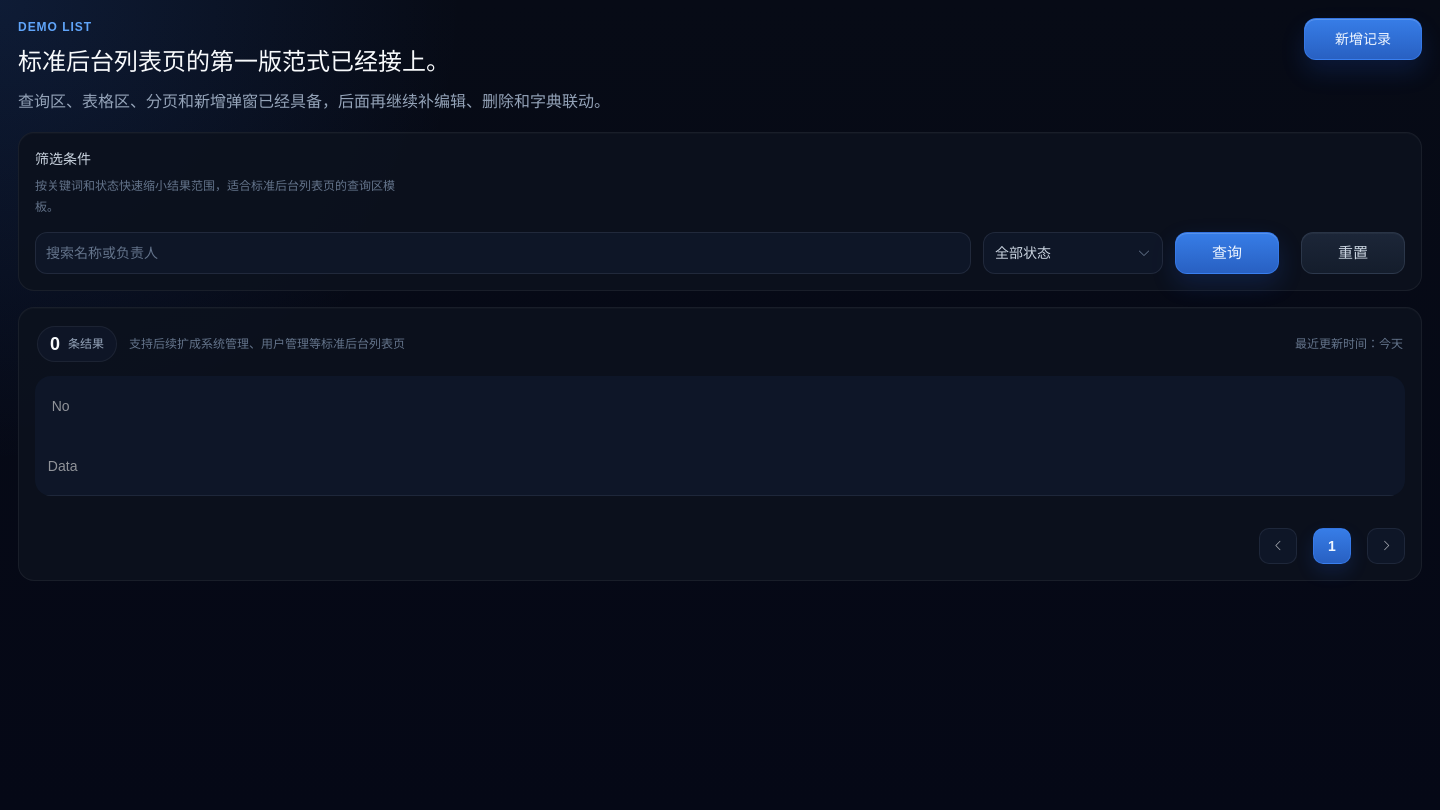
Test case: DemoListPage › filters rows by keyword
The image size is (1440, 810).
Type "规范" into the field with placeholder "搜索名称或负责人".
click(503, 253); type("规范")  # box [46,238,960,268]
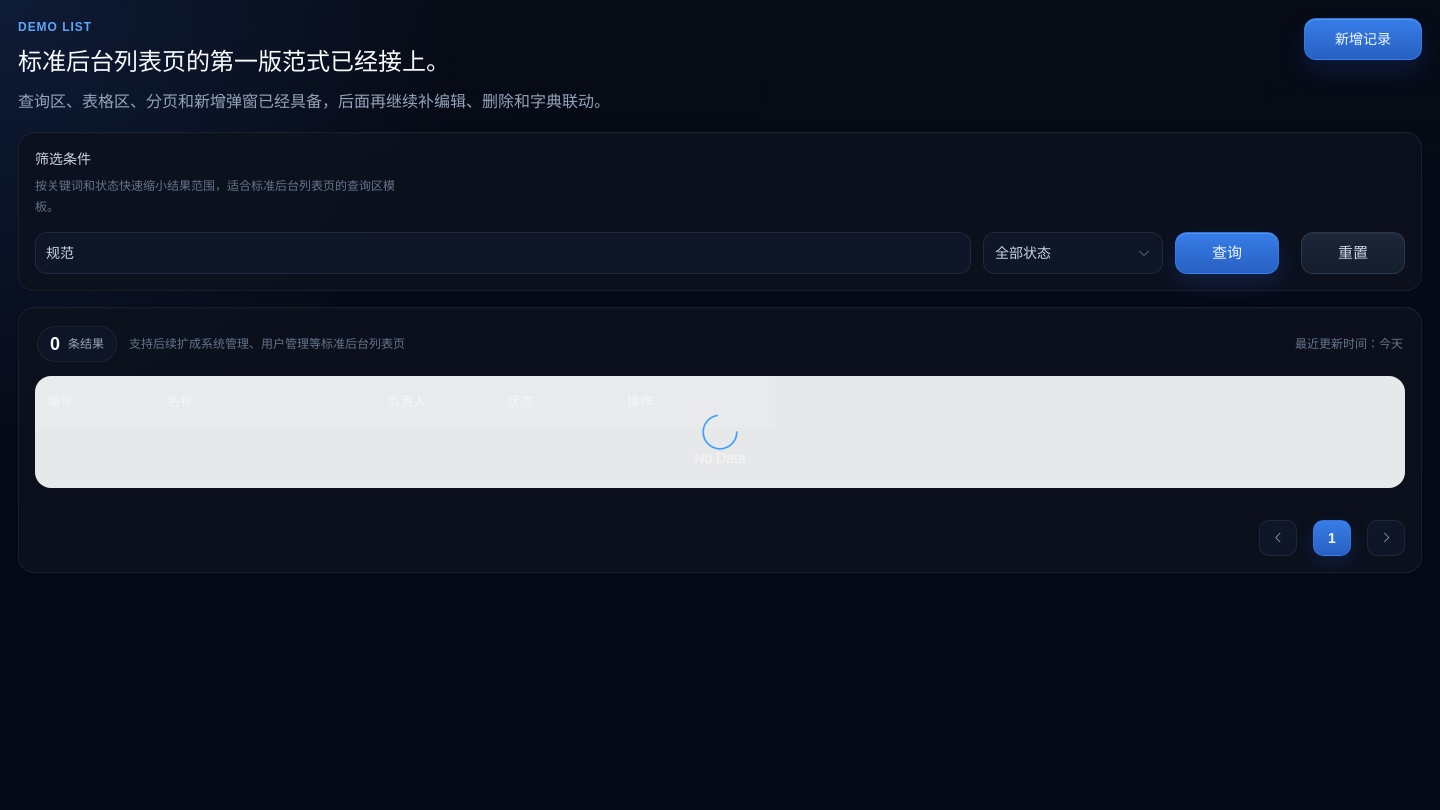
Click the button with test id "search-button".
click(1227, 253)  # box [1175,232,1279,274]
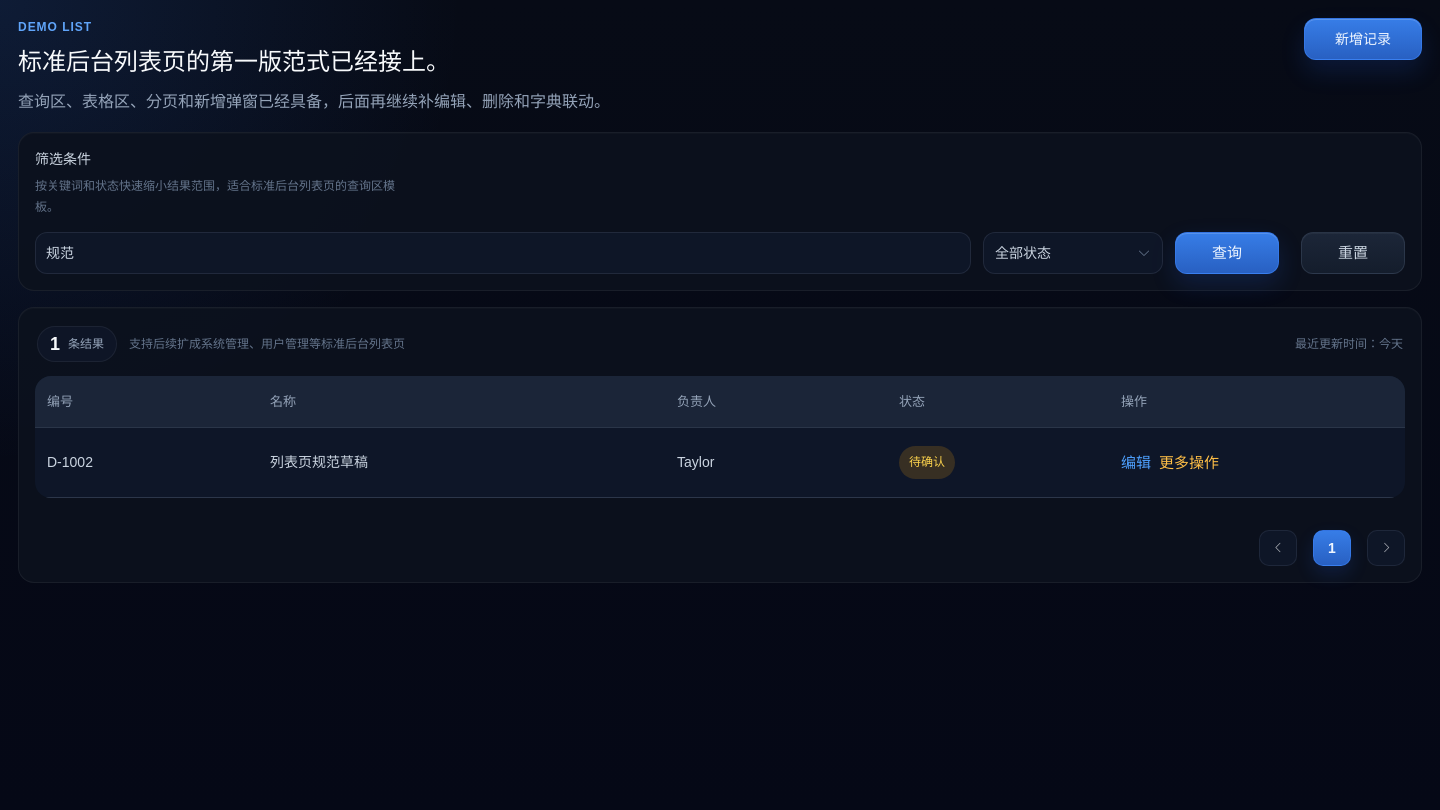
Expected: the text "列表页规范草稿" is shown, [270,454,368,470]
